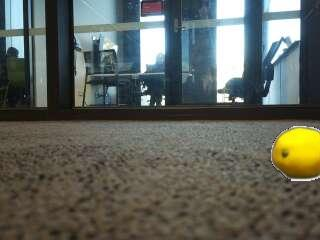lemon: (274, 129, 320, 180)
